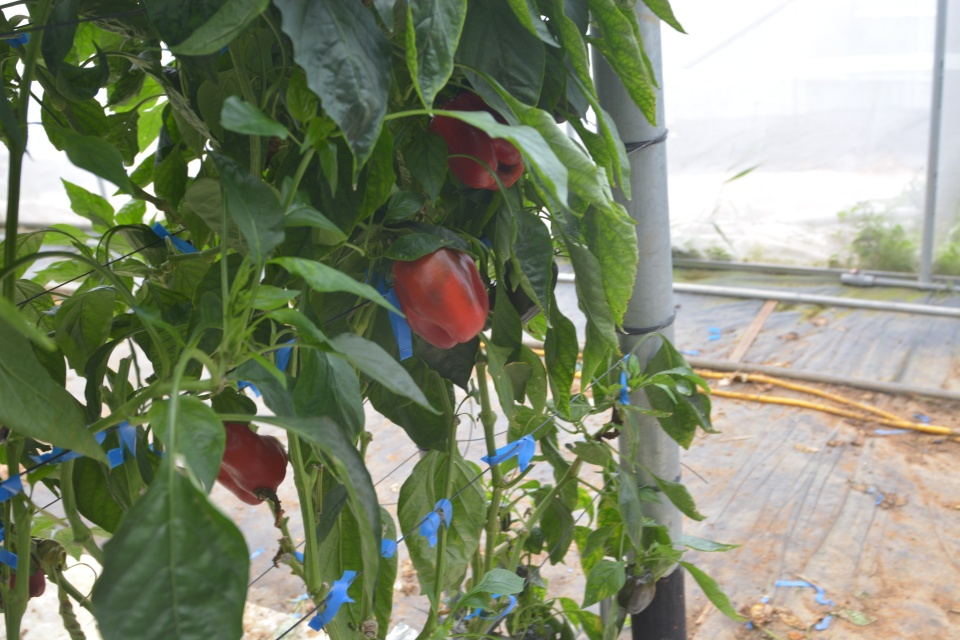fruit: (391, 243, 491, 352), (427, 88, 525, 193), (214, 418, 290, 508), (488, 259, 558, 325), (0, 555, 48, 607), (617, 561, 658, 616)
pedicle: (633, 567, 644, 577)
